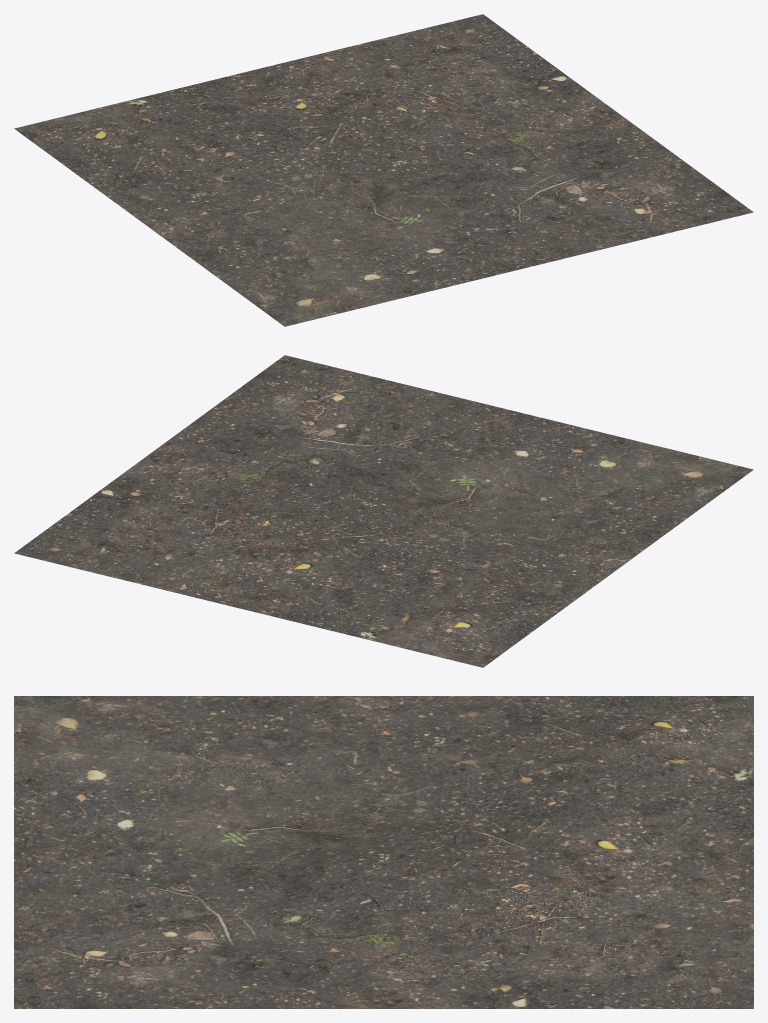
Rendered from sm_Ground_04_01_tile.fbx.
The picture shows the model from 3 angles, top to bottom: view 1: azimuth 30°, elevation 25°; view 2: azimuth 150°, elevation 25°; view 3: azimuth 270°, elevation 25°; orthographic projection. The views are drawn at different scales.
Parts seen in each view (by area): view 1: sm_Ground_04_01_tile_LOD0; view 2: sm_Ground_04_01_tile_LOD0; view 3: sm_Ground_04_01_tile_LOD0.
Boxes of the visible parts, x1=… form: sm_Ground_04_01_tile_LOD0: x1=14, y1=14, x2=753, y2=326; sm_Ground_04_01_tile_LOD0: x1=14, y1=355, x2=753, y2=667; sm_Ground_04_01_tile_LOD0: x1=14, y1=696, x2=753, y2=1008.
Size of the model in its own units: 200 by 200 by 5.68.
